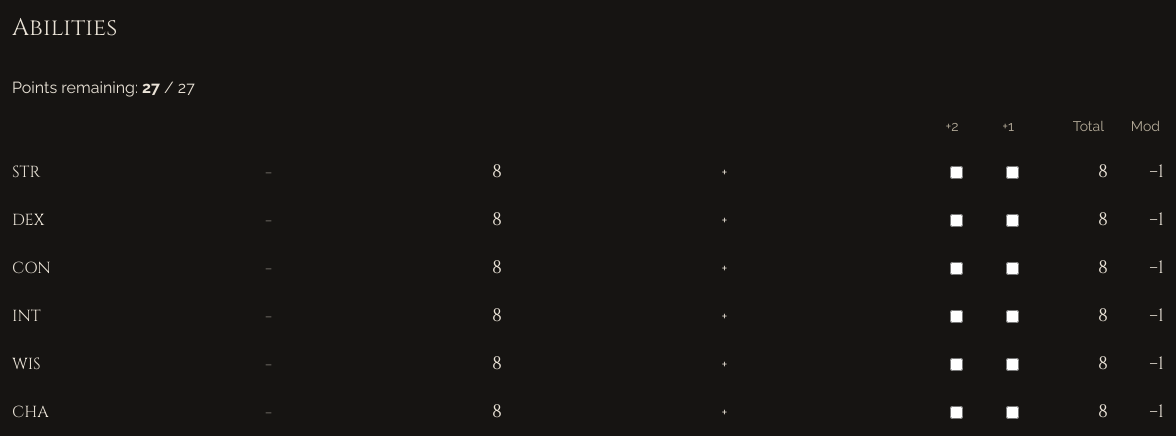
Test case: modifier updates when score is incremented
This screenshot has width=1176, height=436.
// 8 → 9 still −1
Click the button named "Increase STR" at (724, 172), box [525,152,924,192]
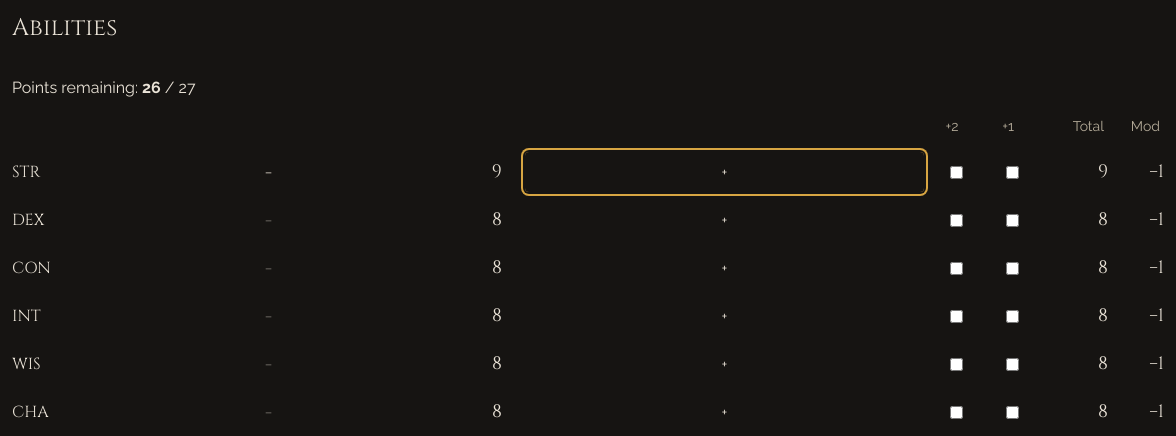
Expected: the text with test id "mod-strength" reads "−1", [1149,159,1164,184]
// 9 → 10 flips to +0
Click the button named "Increase STR" at (724, 172), box [525,152,924,192]
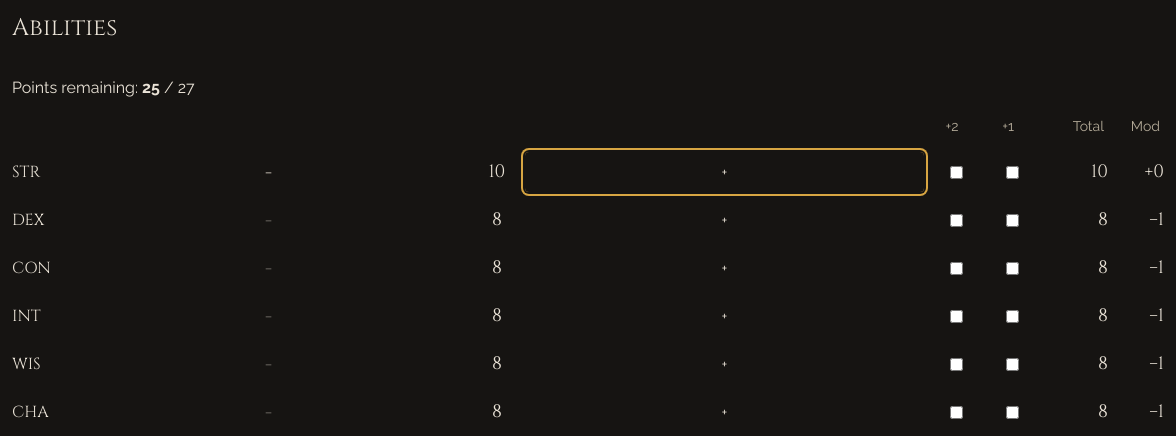
Expected: the text with test id "mod-strength" reads "+0", [1145,159,1164,184]
// 10 → 11 still +0
Click the button named "Increase STR" at (724, 172), box [525,152,924,192]
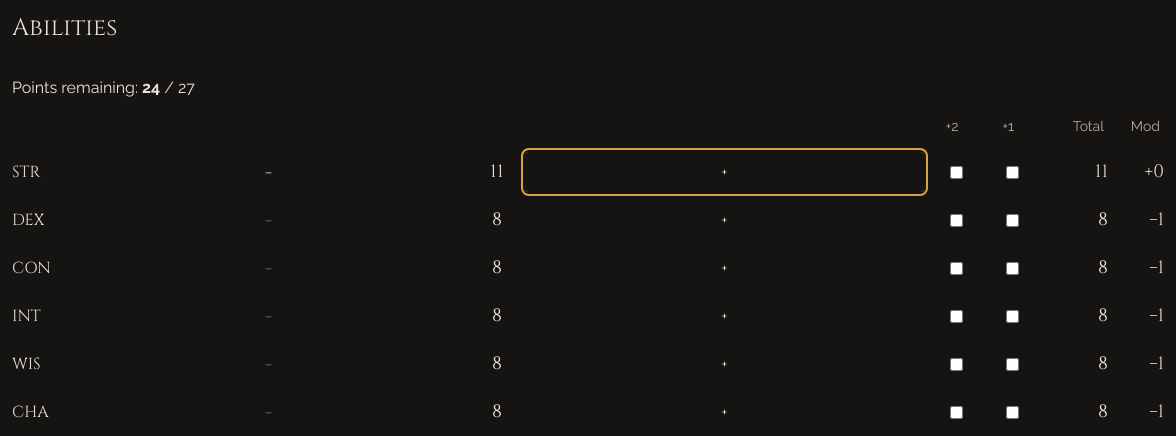
Expected: the text with test id "mod-strength" reads "+0", [1145,159,1164,184]
// 11 → 12 flips to +1
Click the button named "Increase STR" at (724, 172), box [525,152,924,192]
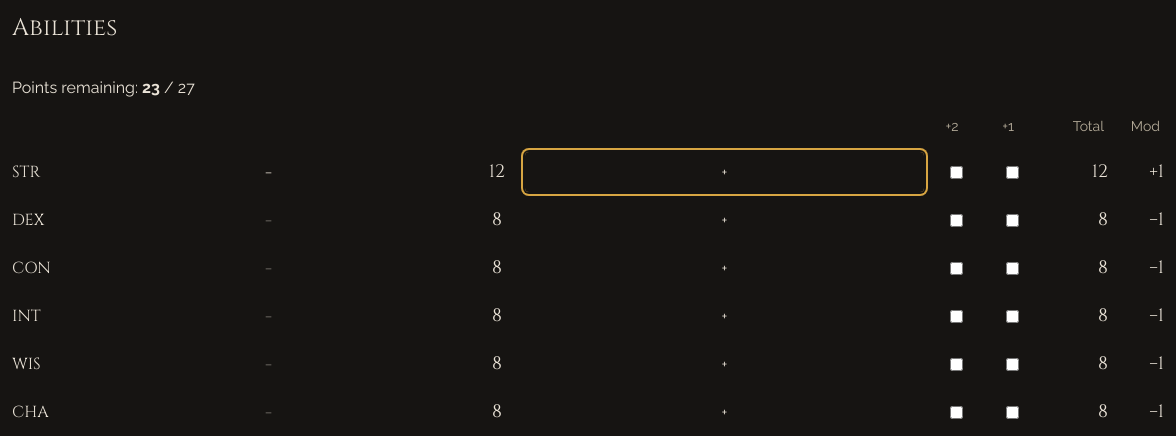
Expected: the text with test id "mod-strength" reads "+1", [1149,159,1164,184]
